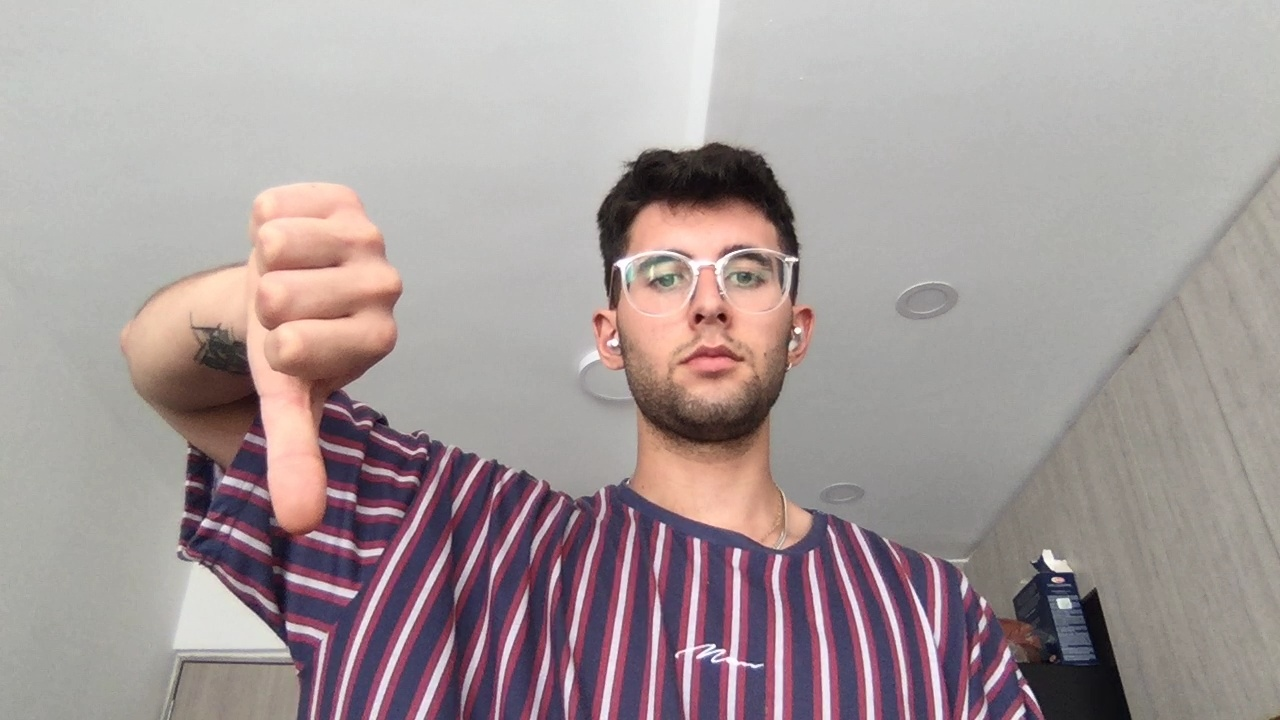bad: (237, 181, 409, 540)
